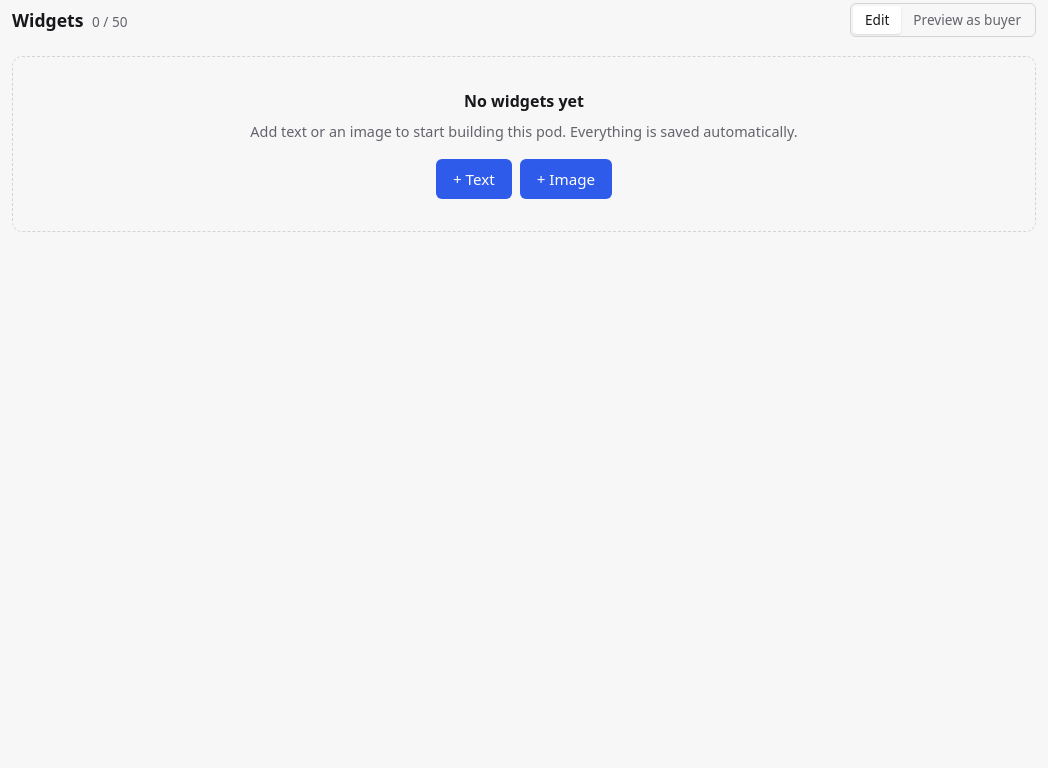
Scenario: WidgetBoard › text widgets › rolls back an add that the server rejects and shows the error
The image size is (1048, 768).
Click the button "+ Text".
click(474, 179)  # box [436,159,512,199]
Wait 1000 ms
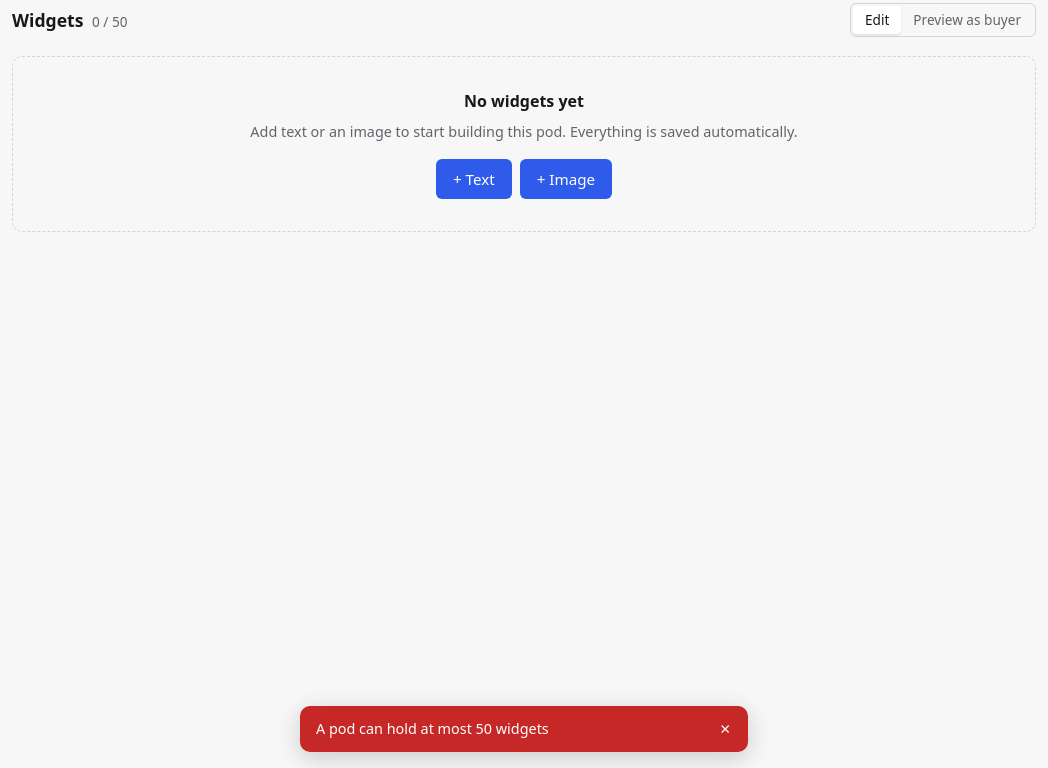
Result: the text "A pod can hold at most 50 widgets" is shown at [316,719,549,738]
